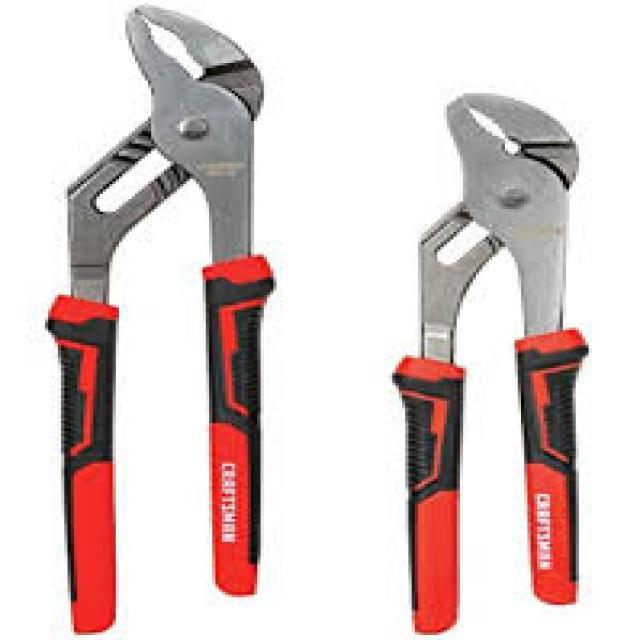pliers: (42, 3, 276, 636), (385, 84, 600, 638)
